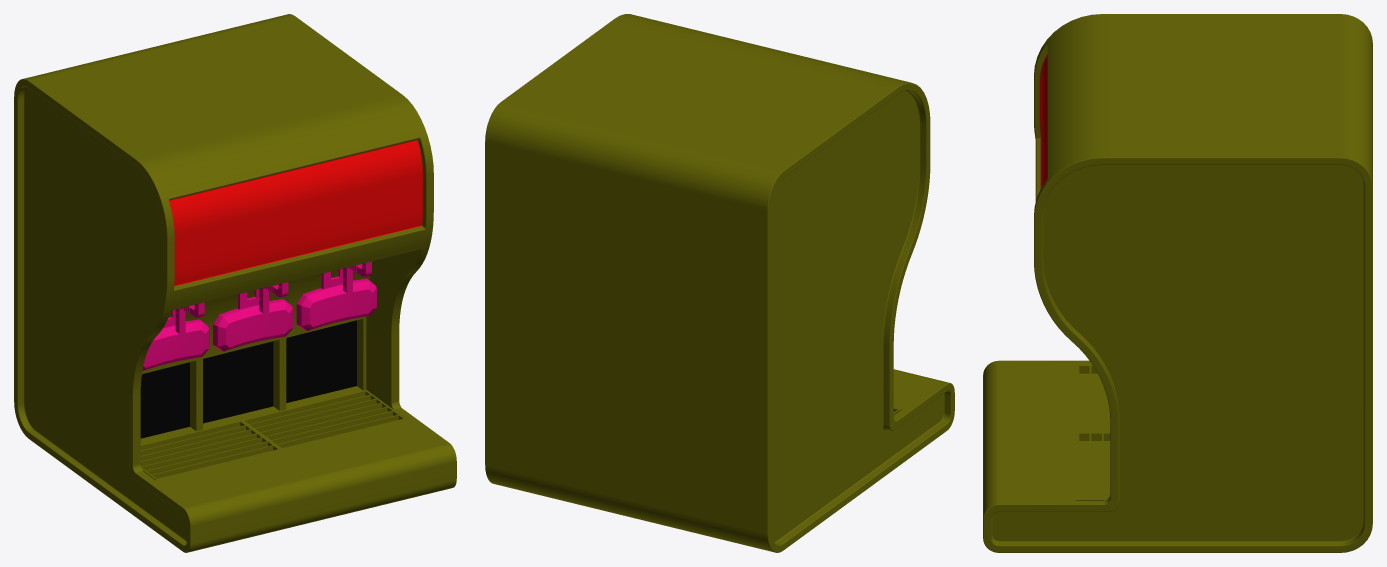
The model's file is Slurpy_Machine.fbx.
The picture shows the model from 3 angles, left to right: view 1: azimuth 30°, elevation 25°; view 2: azimuth 150°, elevation 25°; view 3: azimuth 270°, elevation 25°; orthographic projection. The views are drawn at different scales.
Visible parts, largest first — view 1: Slurpy_Peeps, Lever_2, Lever_3, Lever_1; view 2: Slurpy_Peeps; view 3: Slurpy_Peeps.
Part boxes in pixels (x1=…): Slurpy_Peeps: x1=14, y1=14, x2=456, y2=552; Lever_2: x1=213, y1=289, x2=293, y2=351; Lever_3: x1=296, y1=268, x2=376, y2=331; Lever_1: x1=142, y1=309, x2=209, y2=371; Slurpy_Peeps: x1=485, y1=14, x2=954, y2=552; Slurpy_Peeps: x1=983, y1=14, x2=1372, y2=552.
Size of the model in its own units: 40.4 by 51.79 by 46.25.
